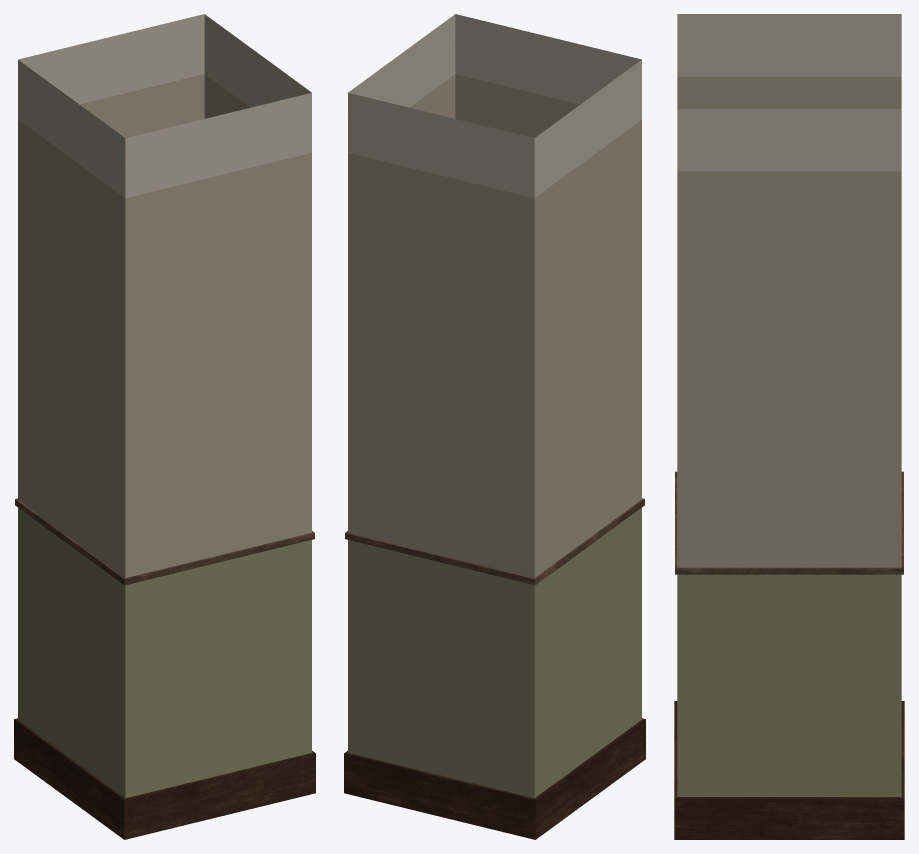
Rendered from Center_Pillar.fbx.
The picture shows the model from 3 angles, left to right: view 1: azimuth 30°, elevation 25°; view 2: azimuth 150°, elevation 25°; view 3: azimuth 270°, elevation 25°; orthographic projection. The views are drawn at different scales.
Visible parts, largest first — view 1: Half_Pillar.001; view 2: Half_Pillar.001; view 3: Half_Pillar.001.
Boxes of the visible parts, left/top/right/bottom form: Half_Pillar.001: left=14, top=14, right=315, bottom=839; Half_Pillar.001: left=344, top=14, right=645, bottom=839; Half_Pillar.001: left=674, top=14, right=904, bottom=839.
Size of the model in its own units: 100 by 350 by 100.
